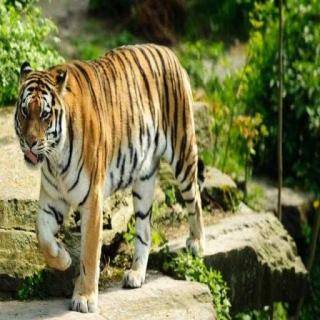Tiger: (0, 31, 227, 306)
